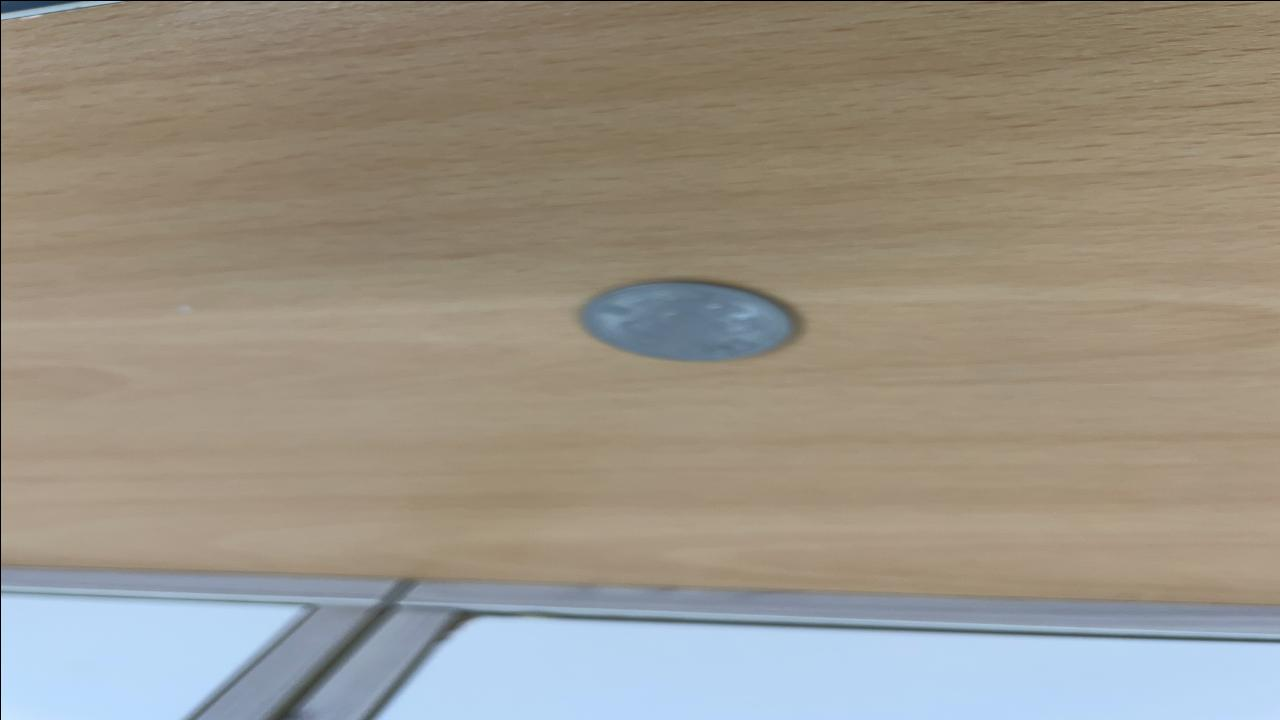coin: (573, 279, 800, 363)
